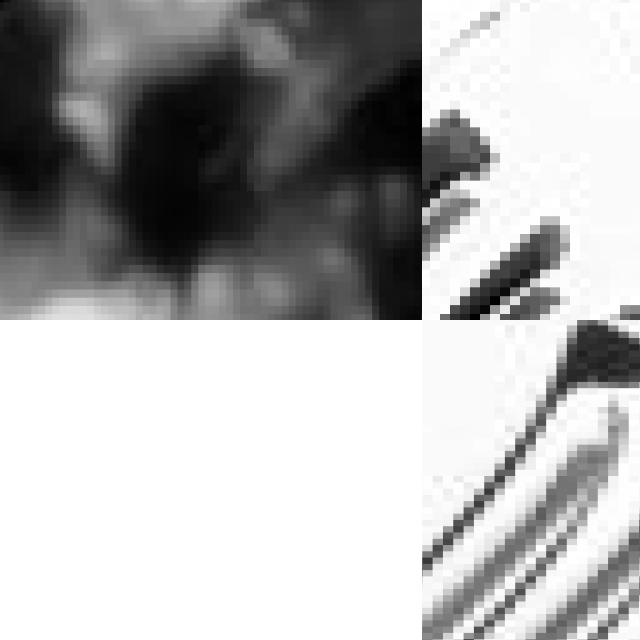forks: (422, 0, 640, 320), (422, 320, 640, 640)
spoons: (0, 0, 422, 320)
